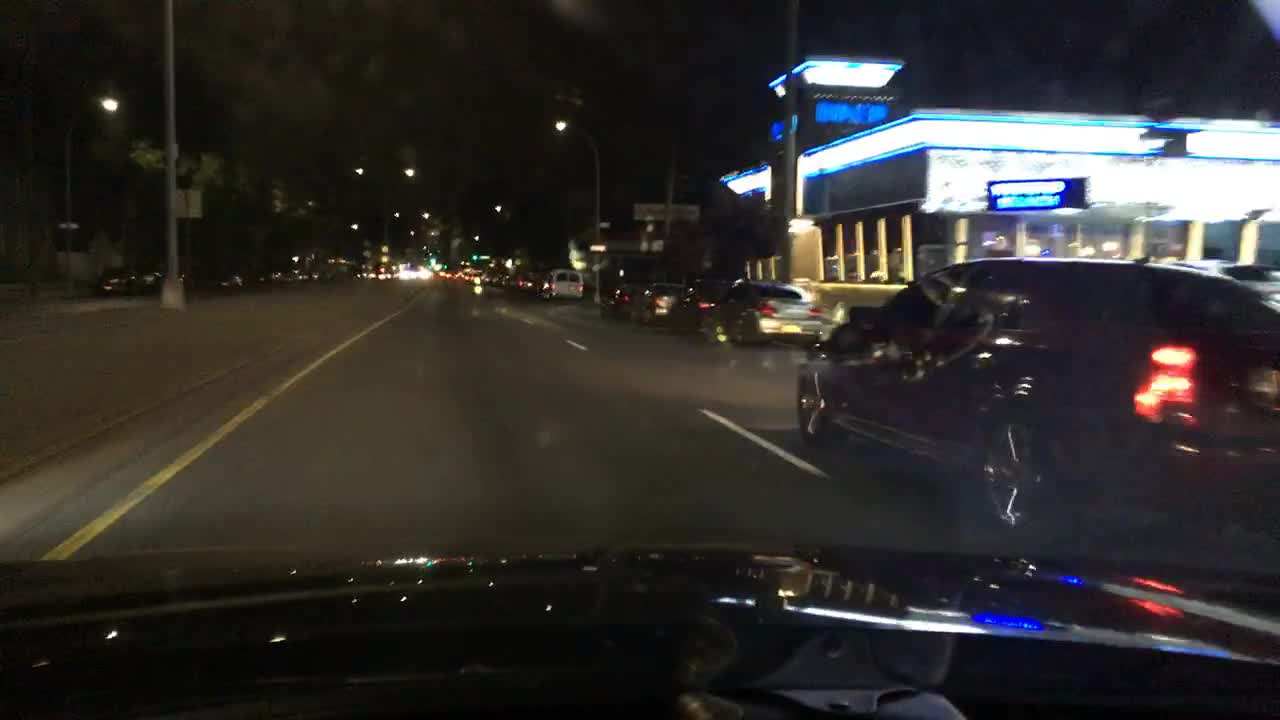car: (793, 246, 1279, 570), (698, 285, 830, 354), (1171, 258, 1279, 309), (663, 275, 739, 329), (626, 280, 685, 324), (597, 280, 646, 320), (536, 266, 585, 302), (98, 263, 145, 299), (207, 265, 244, 290), (133, 261, 167, 288), (255, 261, 288, 287), (516, 268, 541, 287), (280, 266, 307, 282), (354, 265, 378, 278), (501, 270, 519, 283), (487, 270, 504, 283), (305, 266, 320, 280), (479, 268, 492, 283)
traffic sign: (174, 187, 201, 219), (589, 239, 607, 255), (597, 216, 609, 229)
